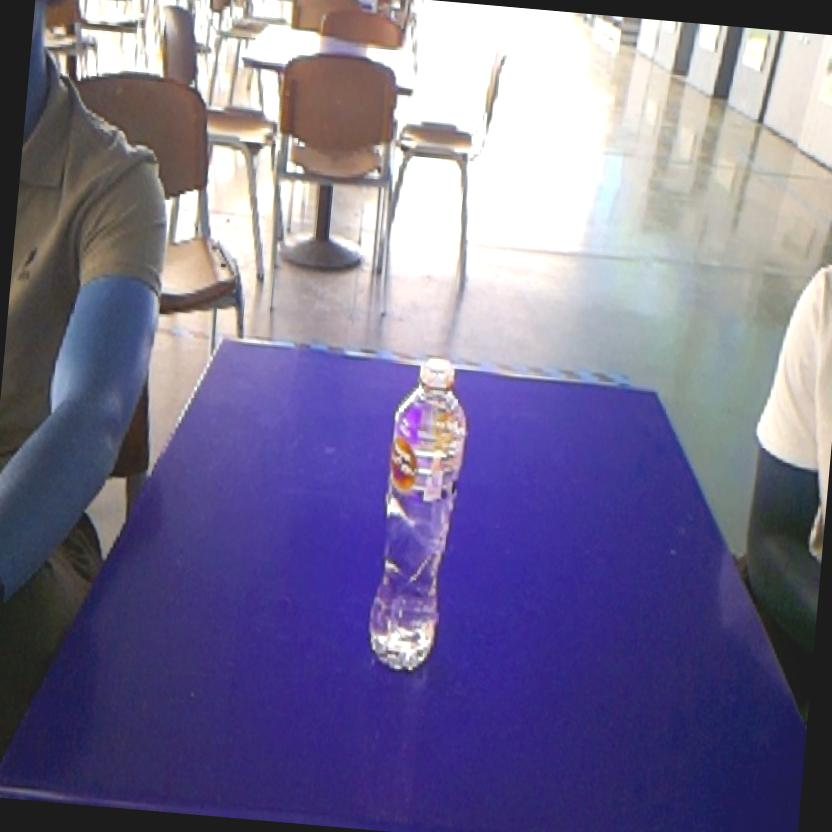no_cap: (356, 338, 480, 688)
